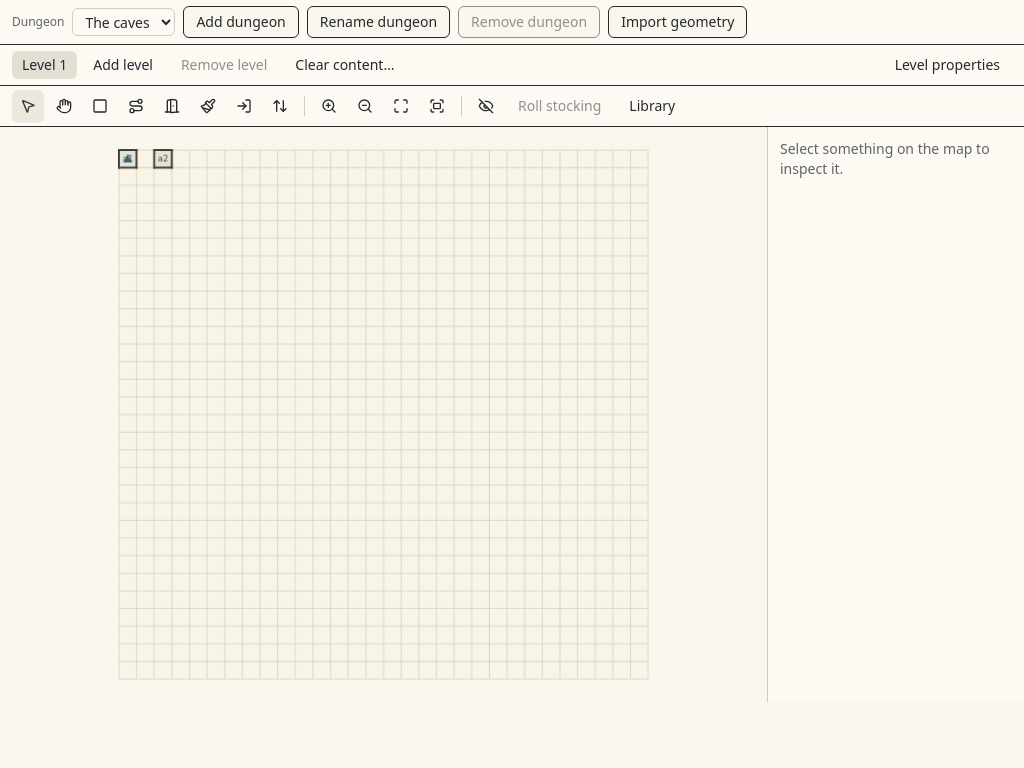
the clear-content dialog counts what it will remove and keeps geometry
What coordinates should you click on to do the following:
click the button "Clear content…"
I would click on:
 (345, 65)
Its box is [283,49,406,81].
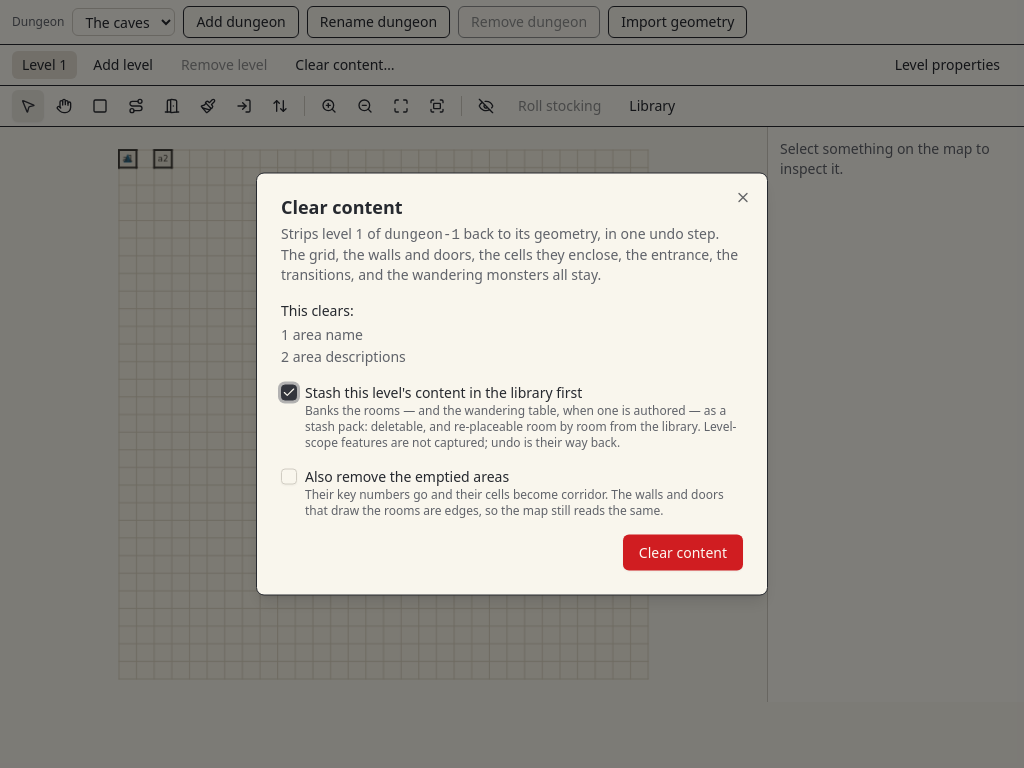
Result: the heading "Clear content" is shown at [281,194,403,218]
Result: the list named "Content to clear" shows "1 area name" at [281,324,363,344]
Result: the list named "Content to clear" shows "2 area descriptions" at [281,346,406,366]
